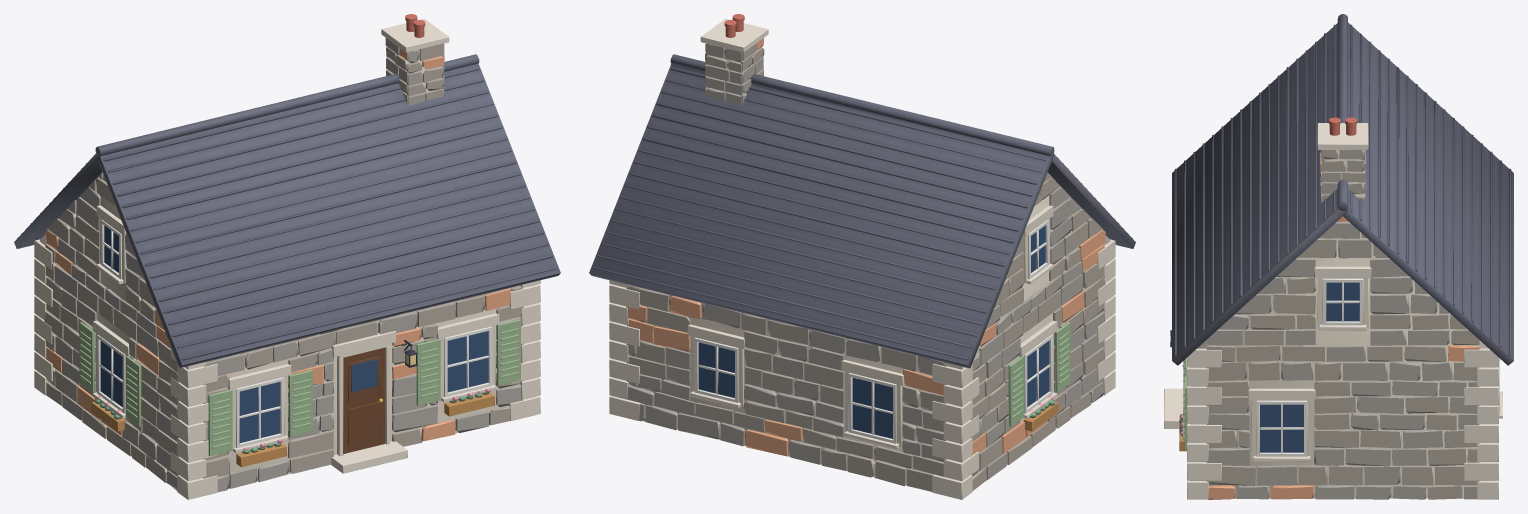
The model's file is stone-house.glb.
3 views of the same model, side by side, from view 1: azimuth 30°, elevation 25°; view 2: azimuth 150°, elevation 25°; view 3: azimuth 270°, elevation 25° (orthographic).
Visible parts, largest first — view 1: stone-house_body, stone-house_details, stone-house_stonework; view 2: stone-house_body, stone-house_stonework, stone-house_details; view 3: stone-house_body, stone-house_stonework, stone-house_details.
Boxes of the visible parts, <box> form: stone-house_body: <box>14,49,560,488</box>; stone-house_details: <box>34,14,540,499</box>; stone-house_stonework: <box>44,38,523,491</box>; stone-house_body: <box>589,48,1135,485</box>; stone-house_stonework: <box>626,38,1105,491</box>; stone-house_details: <box>609,14,1115,499</box>; stone-house_body: <box>1172,14,1513,498</box>; stone-house_stonework: <box>1190,150,1479,499</box>; stone-house_details: <box>1164,117,1502,499</box>.
Size of the model in its own units: 8.75 by 7.74 by 6.88.
Materials: 17 (1 with a texture image).
